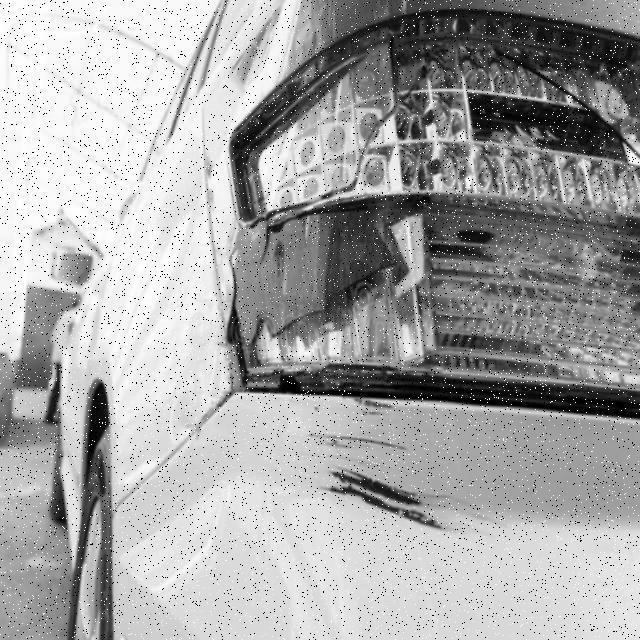rear-bumper-dent: (114, 365, 635, 639)
